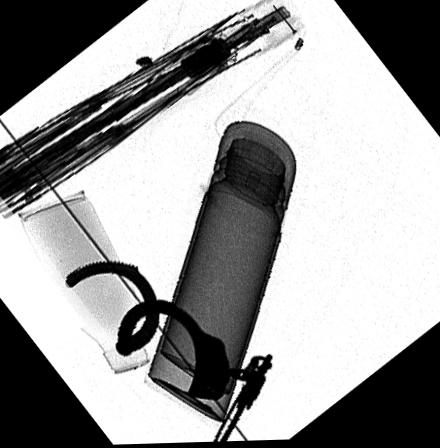HandCuffs: (64, 259, 273, 443)
